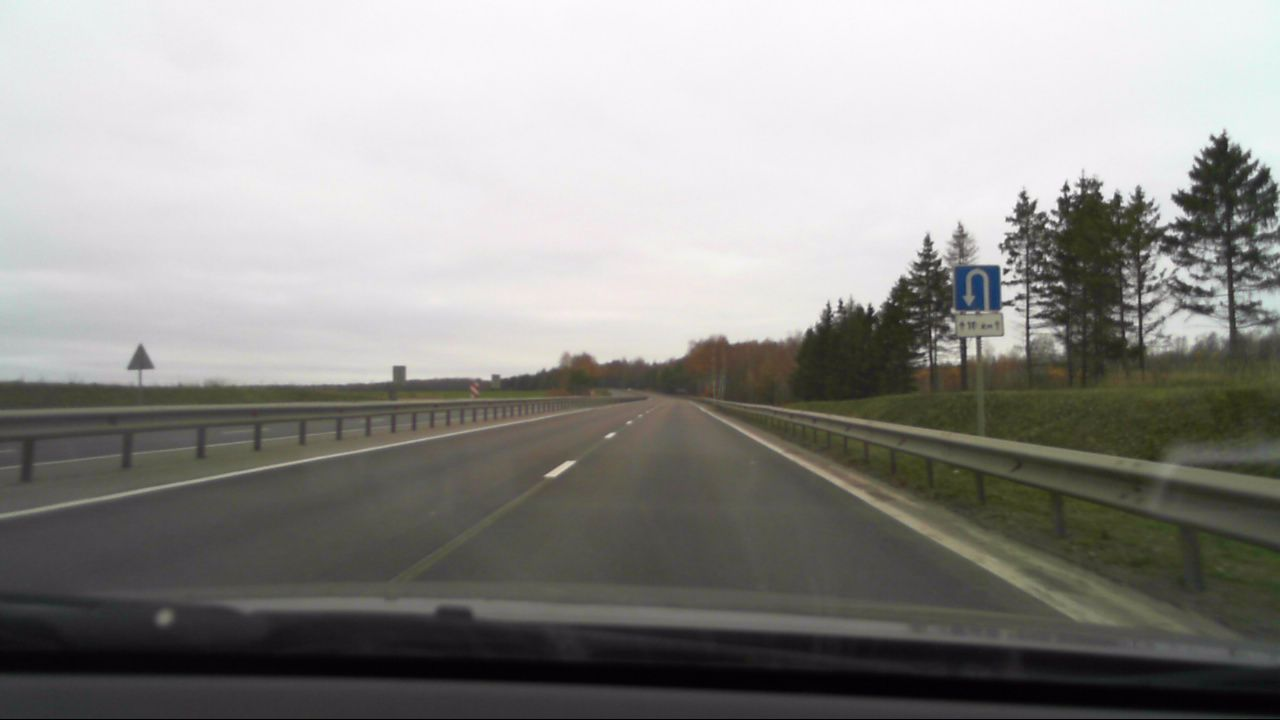U-turn: (955, 266, 1000, 310)
